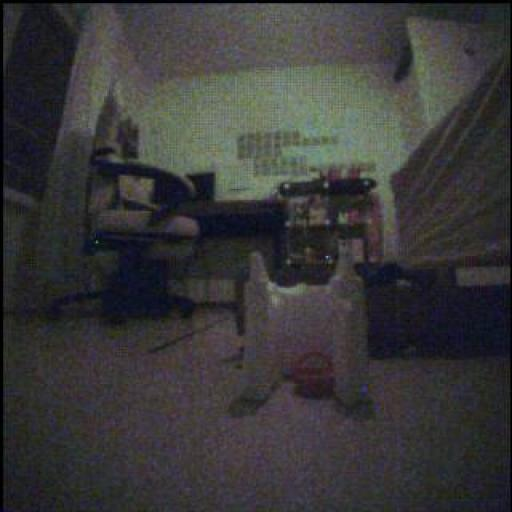basket: (294, 353, 335, 399)
